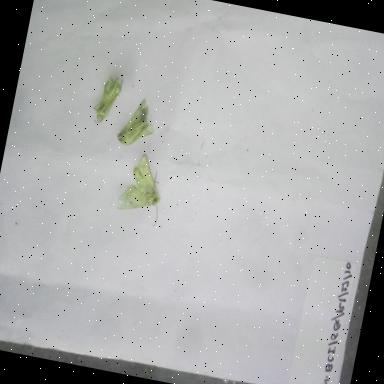abw: (110, 148, 172, 230), (112, 90, 164, 154), (87, 66, 127, 132)
